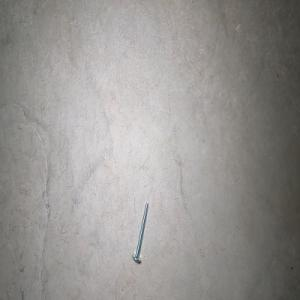Bolt: (131, 200, 148, 262)
